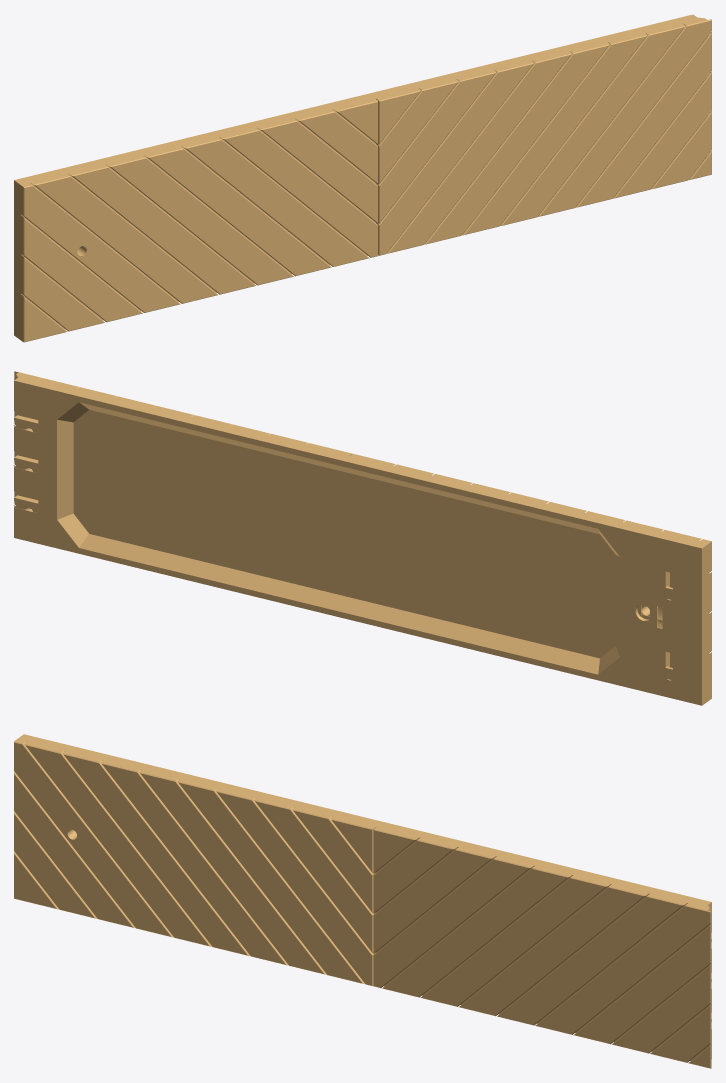
File: Door_Chevron_3W-1H_RH.lib.glb
3 renders of one model, top to bottom at view 1: azimuth 30°, elevation 25°; view 2: azimuth 150°, elevation 25°; view 3: azimuth 330°, elevation 25°, orthographic.
Parts seen in each view (by area): view 1: Door_Chevron_3W-1H_RH; view 2: Door_Chevron_3W-1H_RH; view 3: Door_Chevron_3W-1H_RH.
Boxes of the visible parts, <box> form: Door_Chevron_3W-1H_RH: <box>14,14,711,342</box>; Door_Chevron_3W-1H_RH: <box>14,371,711,705</box>; Door_Chevron_3W-1H_RH: <box>14,734,711,1068</box>.
Size of the model in its own units: 255 by 55.01 by 6.51.
